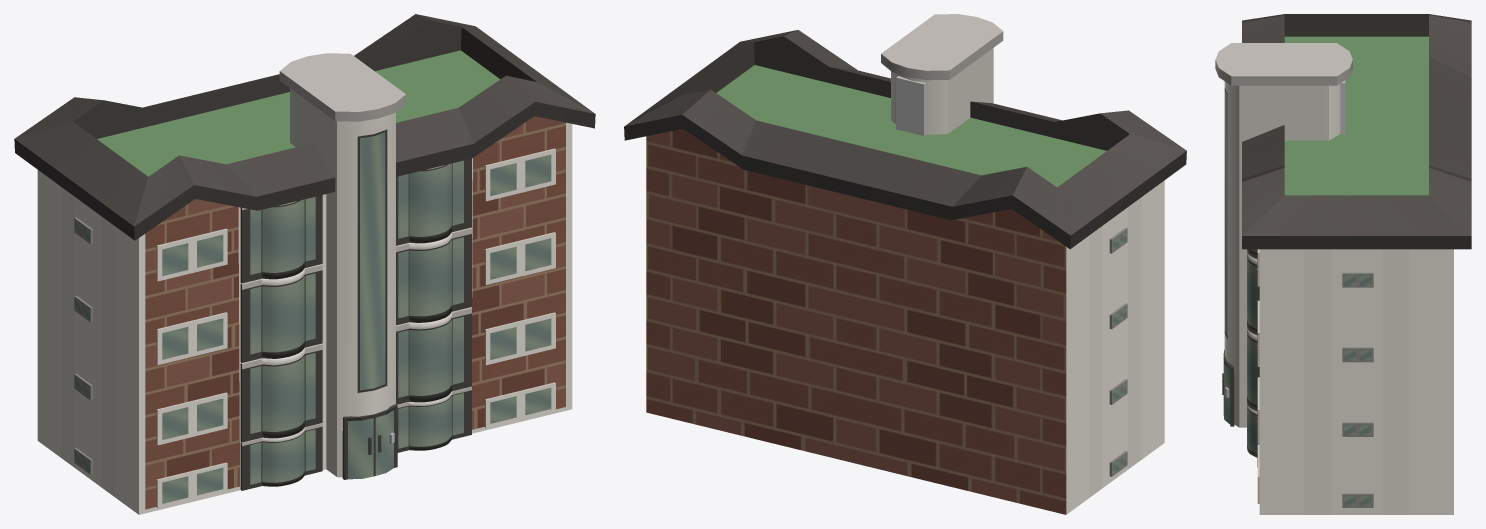
The model's file is Building_House_05.FBX.
3 views of the same model, side by side, from view 1: azimuth 30°, elevation 25°; view 2: azimuth 150°, elevation 25°; view 3: azimuth 270°, elevation 25° (orthographic). The views are drawn at different scales.
Visible parts, largest first — view 1: Box035; view 2: Box035; view 3: Box035.
Part boxes in pixels (box(x1,y1,x2,y2)): Box035: box(14, 14, 595, 514); Box035: box(624, 14, 1186, 514); Box035: box(1215, 14, 1471, 514).
Size of the model in its own units: 324 by 163 by 249.
